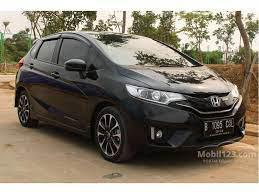Hatchback: (8, 26, 246, 168)
